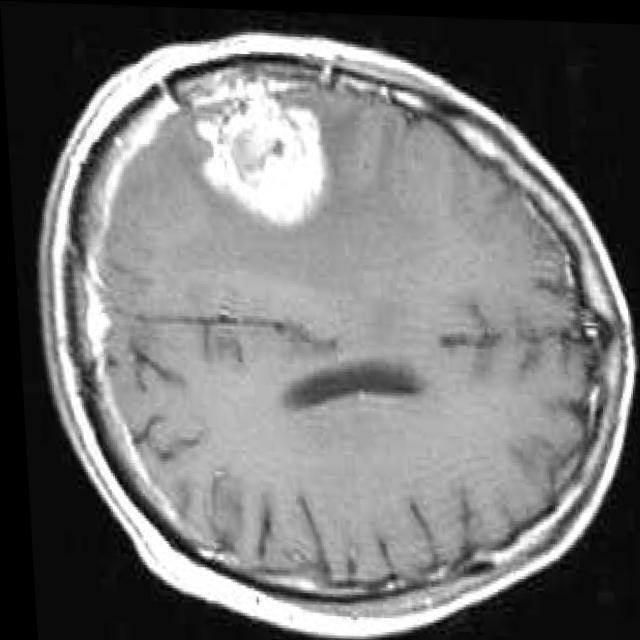Tumor: (196, 74, 323, 220)
